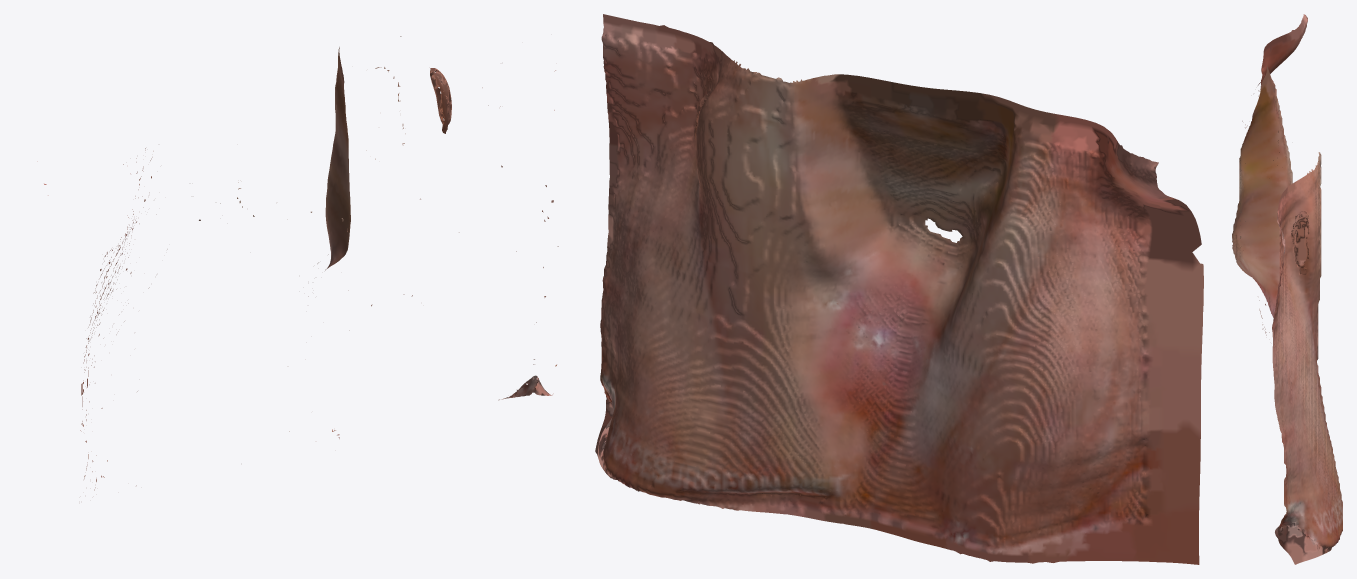
File: lesion (11).gltf
3 views of the same model, side by side, from view 1: azimuth 30°, elevation 25°; view 2: azimuth 150°, elevation 25°; view 3: azimuth 270°, elevation 25° (orthographic). The views are drawn at different scales.
Bounding box in the file's own units: 0.00139 × 0.00102 × 0.000302.
